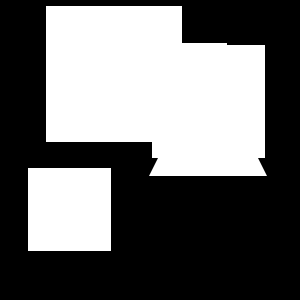circle: (46, 6, 182, 142), (152, 45, 265, 158), (28, 168, 111, 251), (159, 43, 227, 111)
triangle: (149, 58, 267, 176)
